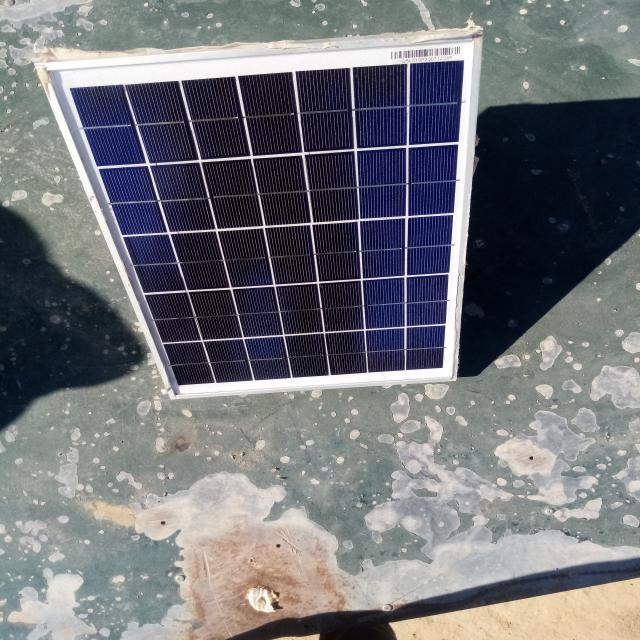Normal Solar Panel: (39, 34, 478, 400)
